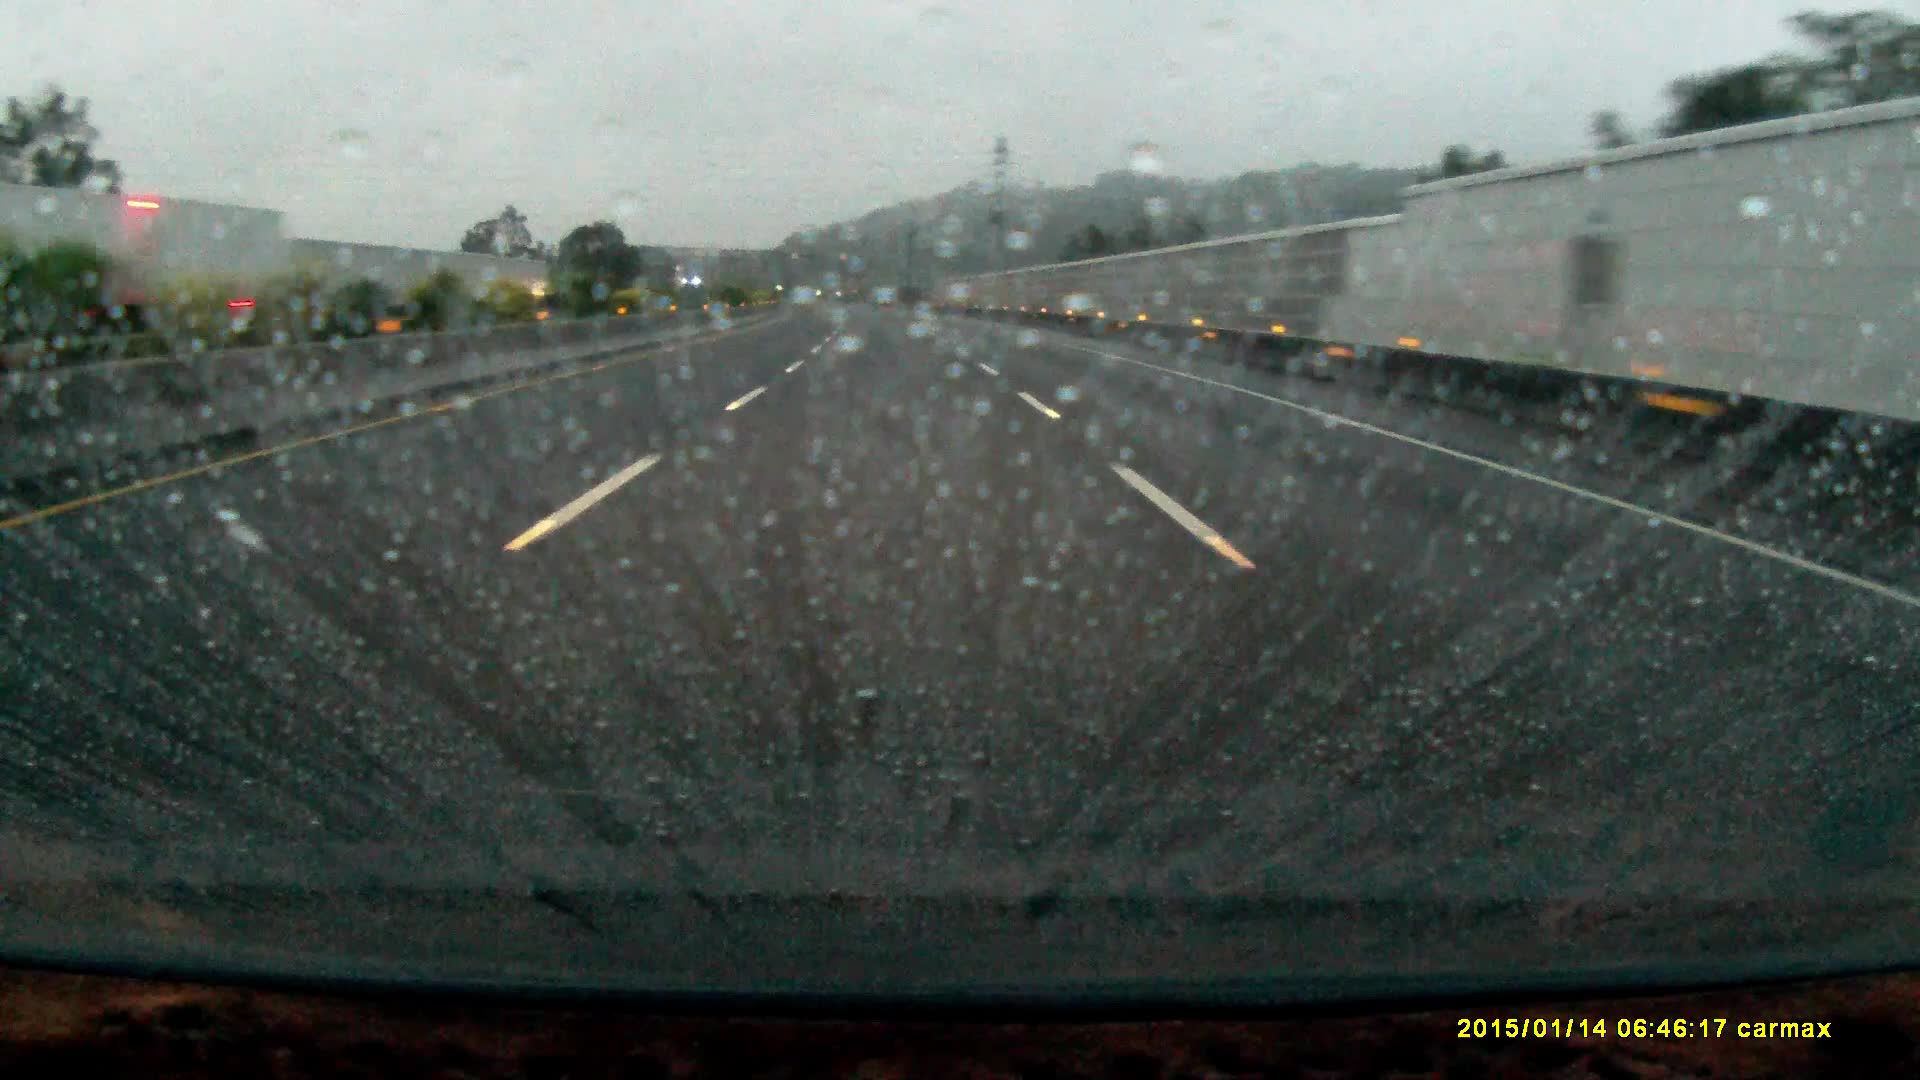vehicle: (1, 194, 295, 345)
